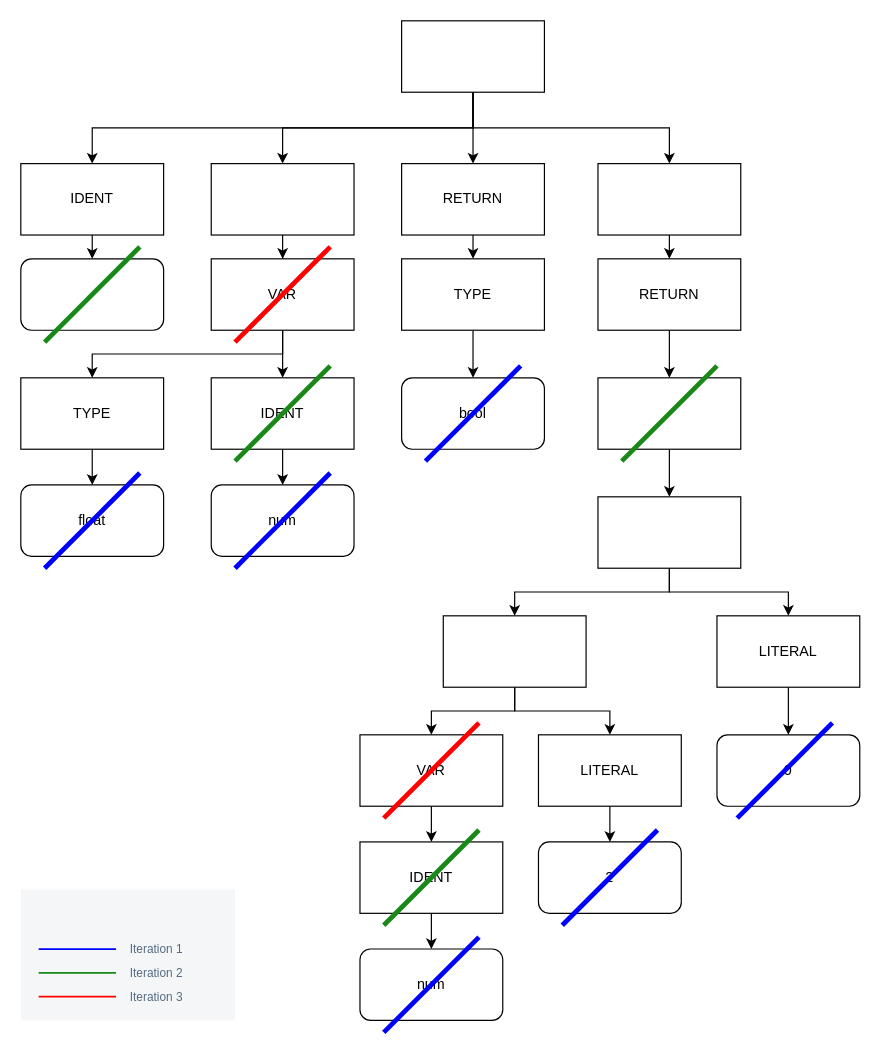
Some shapes in this 881 by 1057 pixel diagram are drawn without their labels. The box of each missing label's shape, as (x1, y1, x2, y2) in pixels:
ARGS: (210, 162, 354, 235)
BODY: (597, 162, 741, 235)
EQUAL: (597, 496, 741, 568)
EXPRESSION: (597, 377, 741, 449)
FUNCTION: (400, 20, 544, 92)
is_even: (20, 258, 164, 330)
Legend: (20, 889, 234, 1020)
MODULO: (442, 615, 586, 687)
